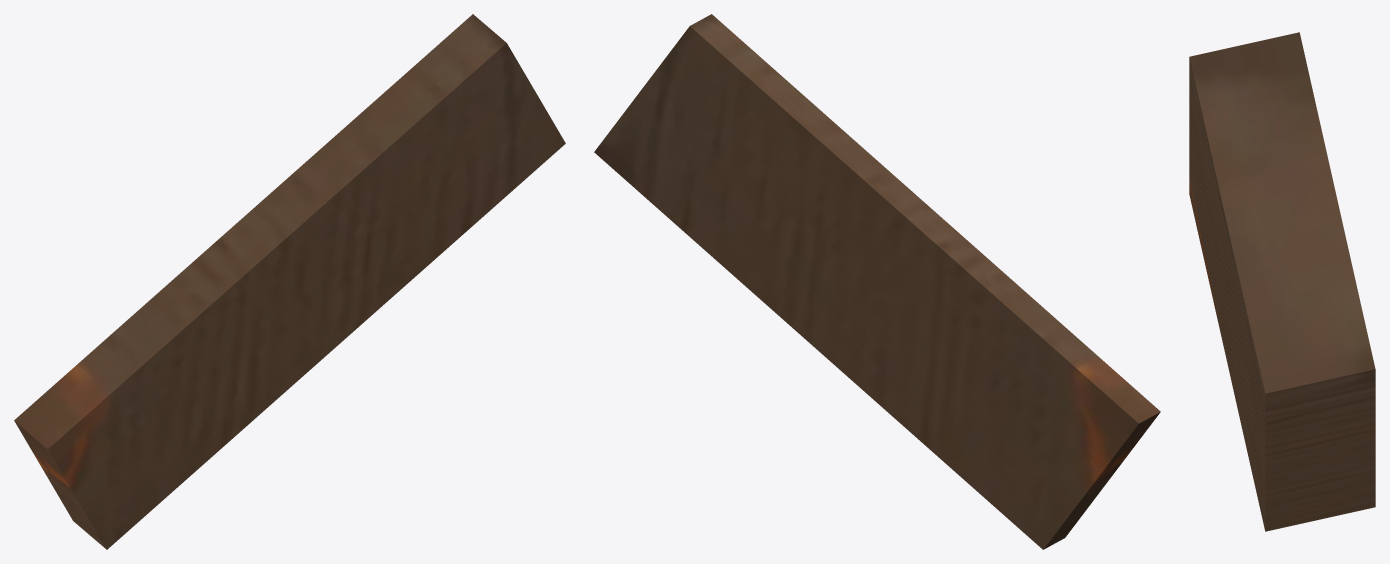
File: fan_center__blade_0.glb
3 views of the same model, side by side, from view 1: azimuth 30°, elevation 25°; view 2: azimuth 150°, elevation 25°; view 3: azimuth 270°, elevation 25° (orthographic). The views are drawn at different scales.
Visible parts, largest first — view 1: geometry_0; view 2: geometry_0; view 3: geometry_0.
Part boxes in pixels (<box>): geometry_0: <box>14,14,565,549</box>; geometry_0: <box>594,14,1160,549</box>; geometry_0: <box>1189,32,1375,531</box>.
Bounding box in the file's own units: 0.0282 × 0.0218 × 0.00428.
Materials: 1 (1 with a texture image).
